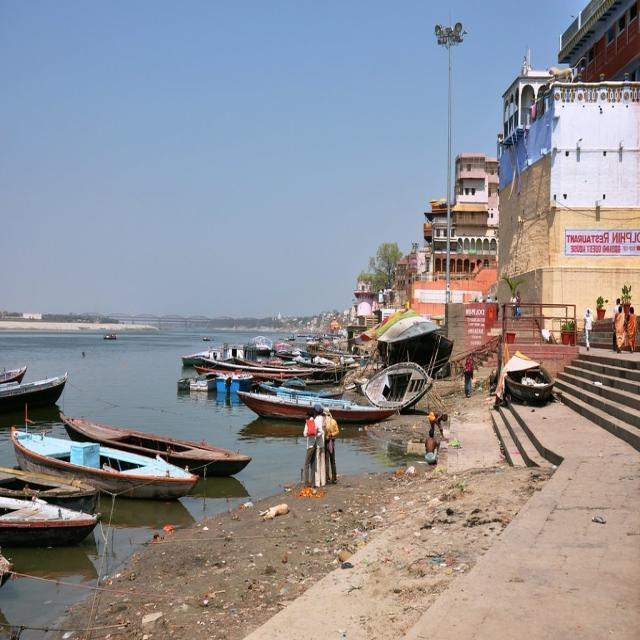boat: (5, 428, 199, 501), (65, 414, 251, 478), (228, 388, 404, 423), (100, 330, 119, 346), (197, 332, 213, 348)
